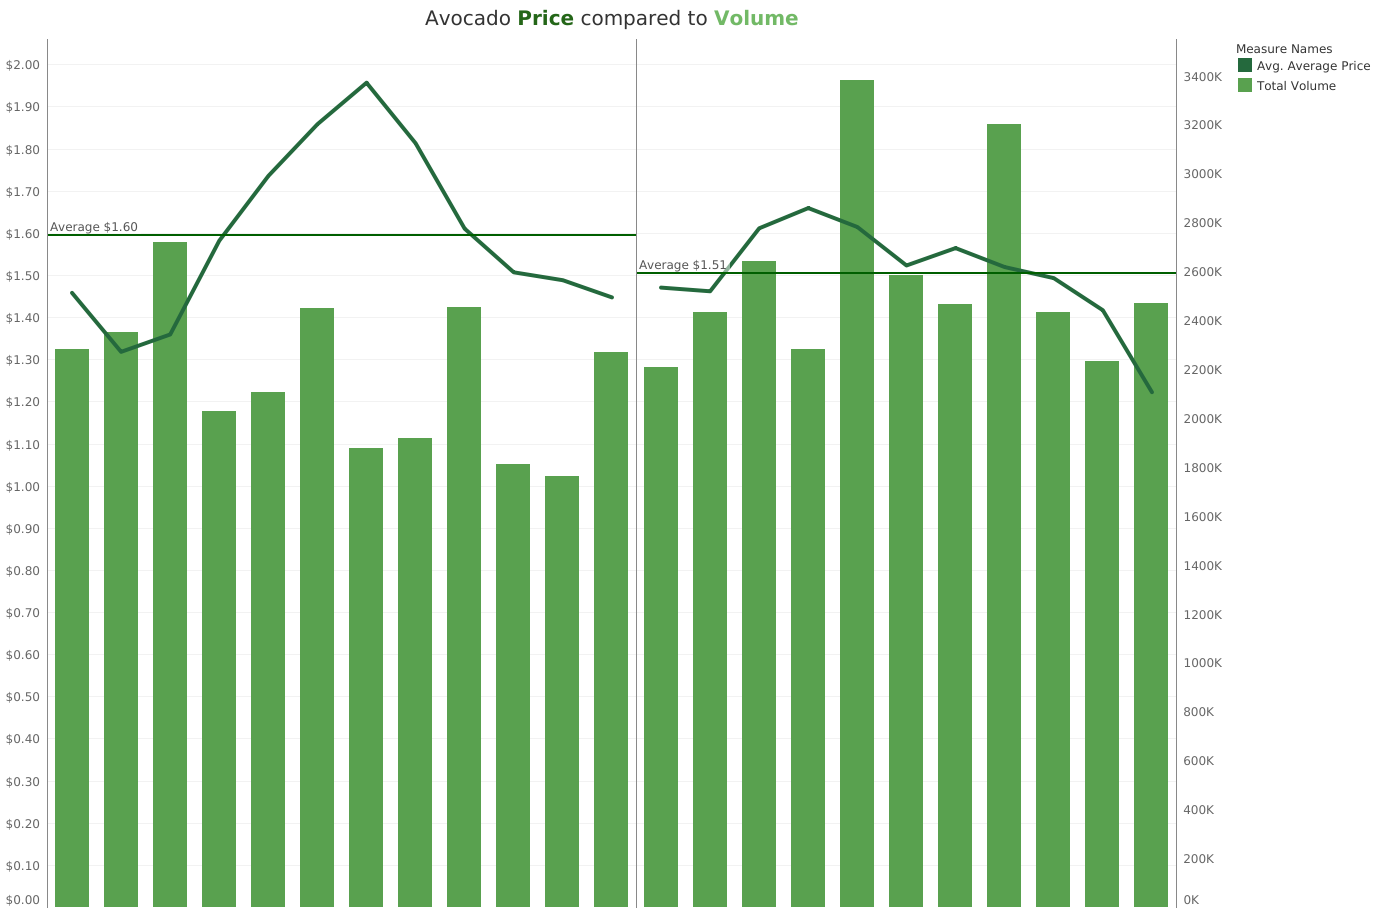

The dashboard page shown, as its layout file describes it:
{"tool":"tableau","page":{"name":"Dashboard - Average Prices","canvas":[1016,964],"ordinal":0},"visuals":[{"type":"worksheet","param":"Image/Cado_Creations_logo.png","box":[1,9,587,176]},{"type":"worksheet","box":[816,32,164,52]}]}

Visuals, with their boxes on the page's 1016x964 design canvas (x1, y1, x2, y2). These are canvas units, not pixel positions in the 1375x908 screenshot, which may show the page scaled, cropped or inside an application window:
worksheet: {"x1": 1, "y1": 9, "x2": 588, "y2": 185}
worksheet: {"x1": 816, "y1": 32, "x2": 980, "y2": 84}
